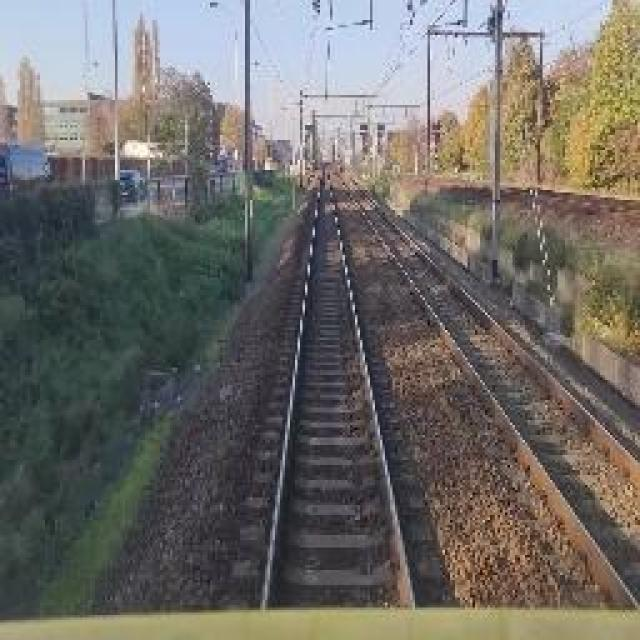rail: (225, 161, 445, 609)
